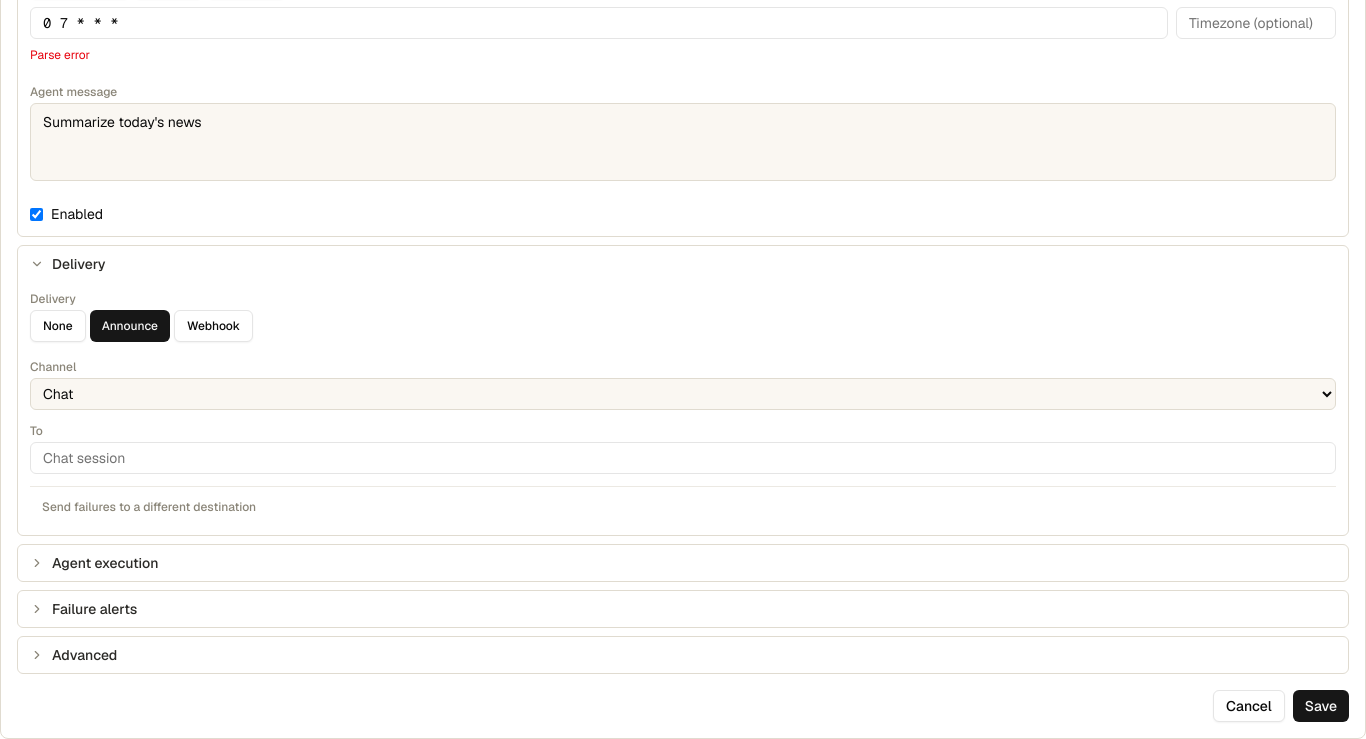
it: JobEditDialog › Advanced: enabling deleteAfterRun shows inline confirmation
(page scrolled)
Click the 2nd button "Advanced": coordinates (85, 655) [18, 637, 1348, 673]
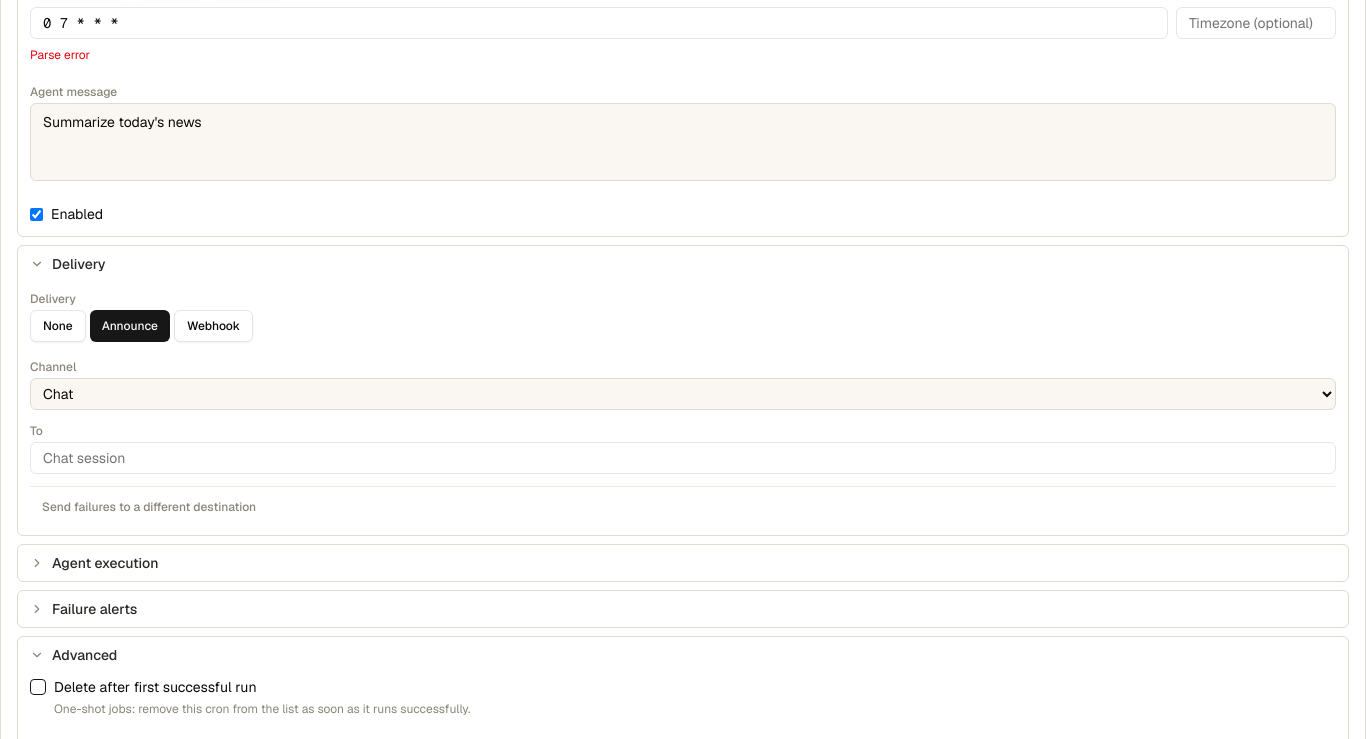
expect the checkbox named "Delete after first successful run" is not checked: met
Click the checkbox named "Delete after first successful run": coordinates (38, 687) [30, 679, 46, 695]
(page scrolled)
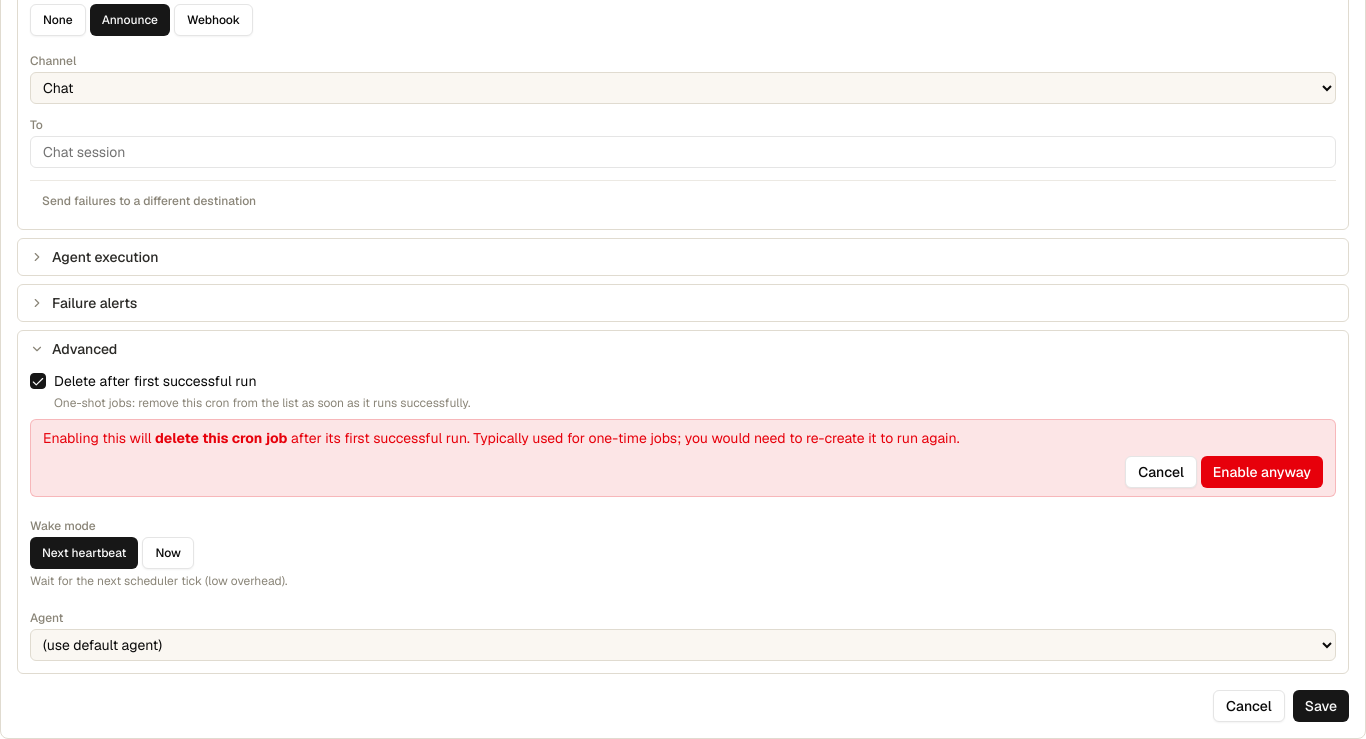
expect the button "Enable anyway" is shown: met, box [1201, 456, 1323, 488]
